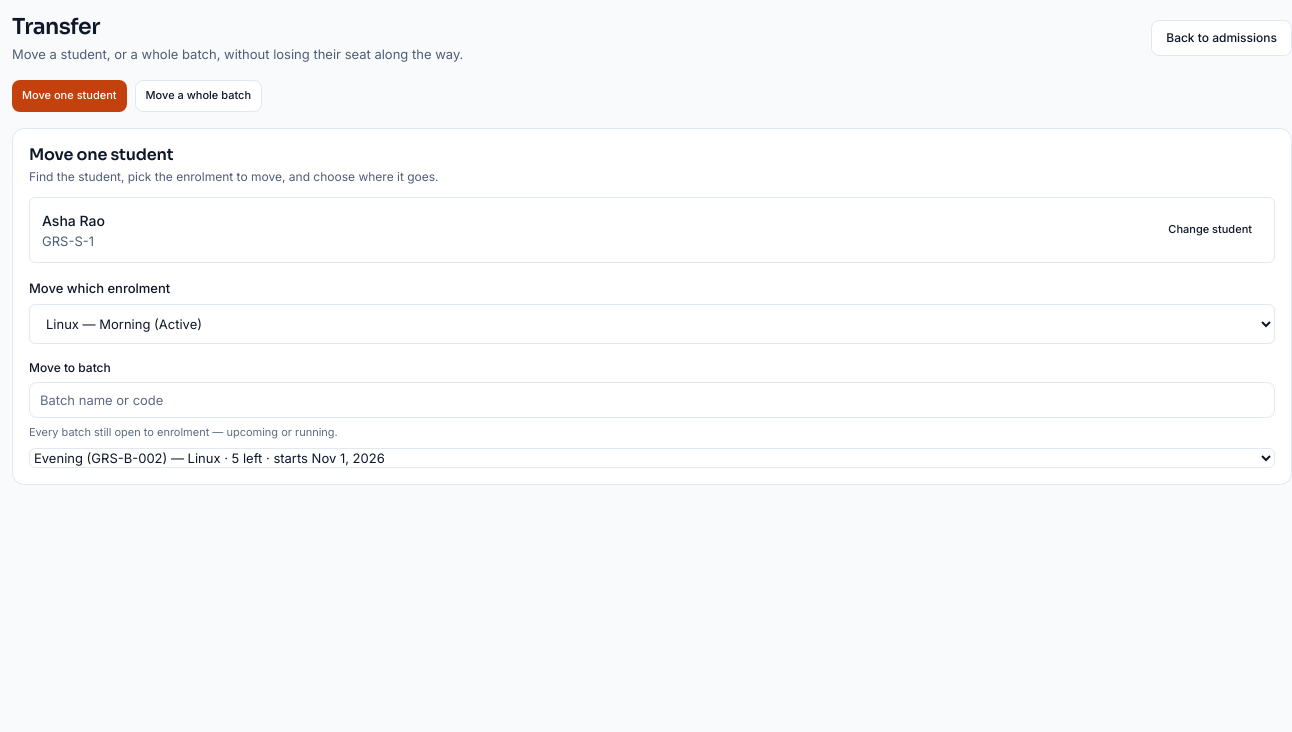
Test: Transfer — one student › asks why, then transfers with the reason and the upgrade flag
The width and height of the screenshot is (1292, 732).
Select "Evening (GRS-B-002) — Linux · 5 left · starts Nov 1, 2026" in the dropdown named "Move to batch results" at coordinates (652, 458), box [29,448,1275,468]
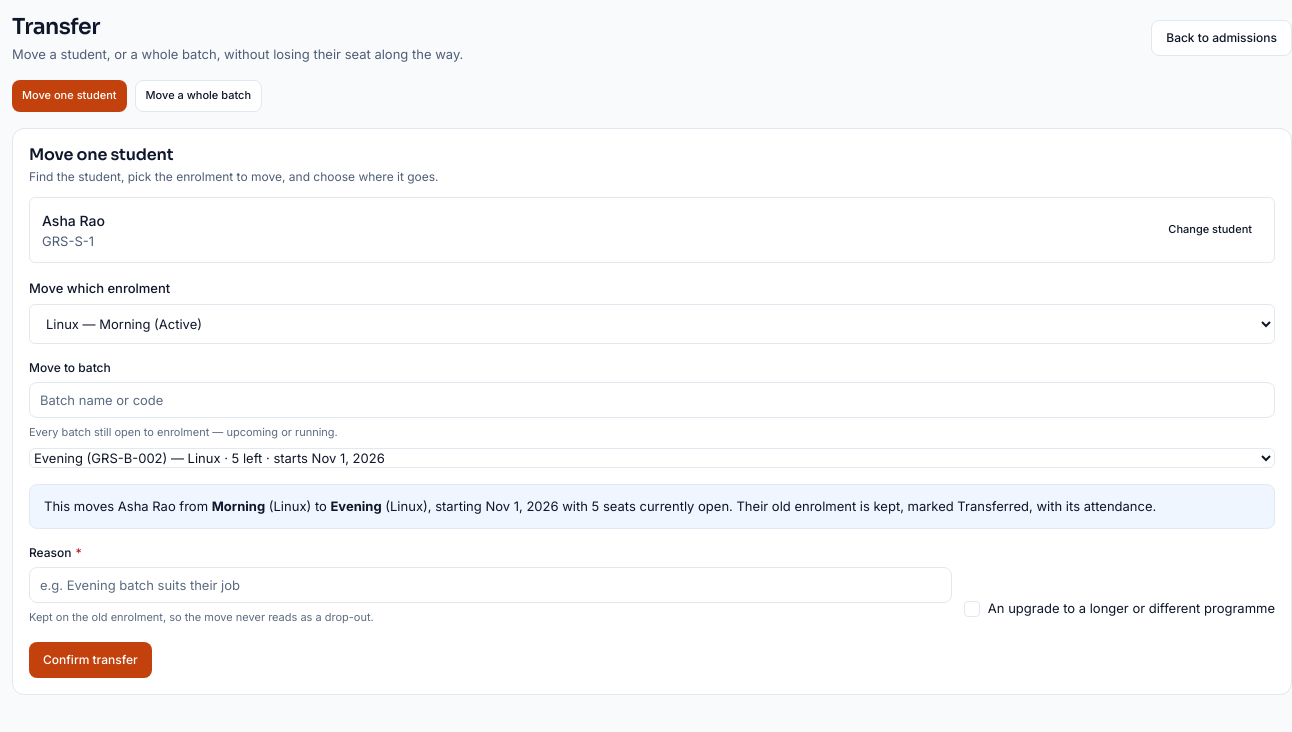
Now the message with test id "transfer-preview" shows "marked Transferred", box [636,498,1156,514]
Click the button "Confirm transfer".
click(90, 660)  # box [29,642,152,678]
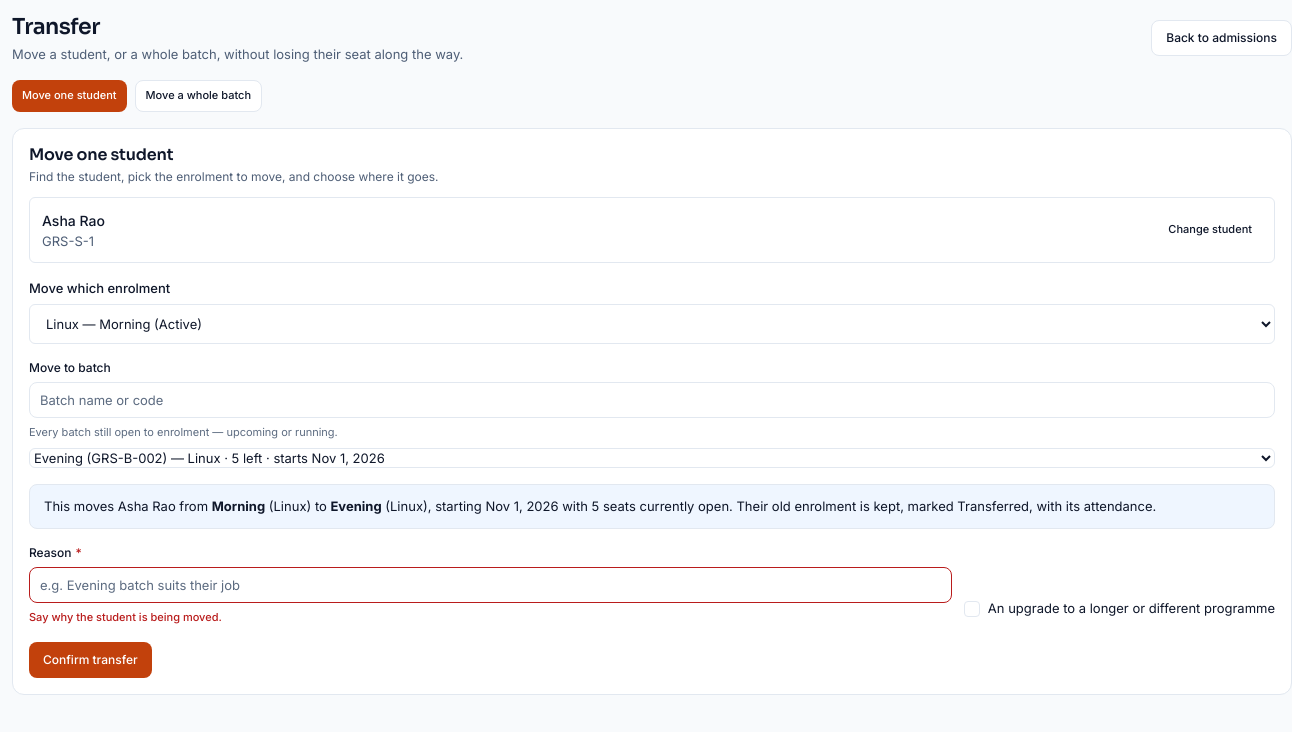
Now the text "Say why the student is being moved." is shown, box [29,610,222,624]
Type "Evening suits" into the field labelled "Reason*".
click(490, 585); type("Evening suits")  # box [29,567,952,603]
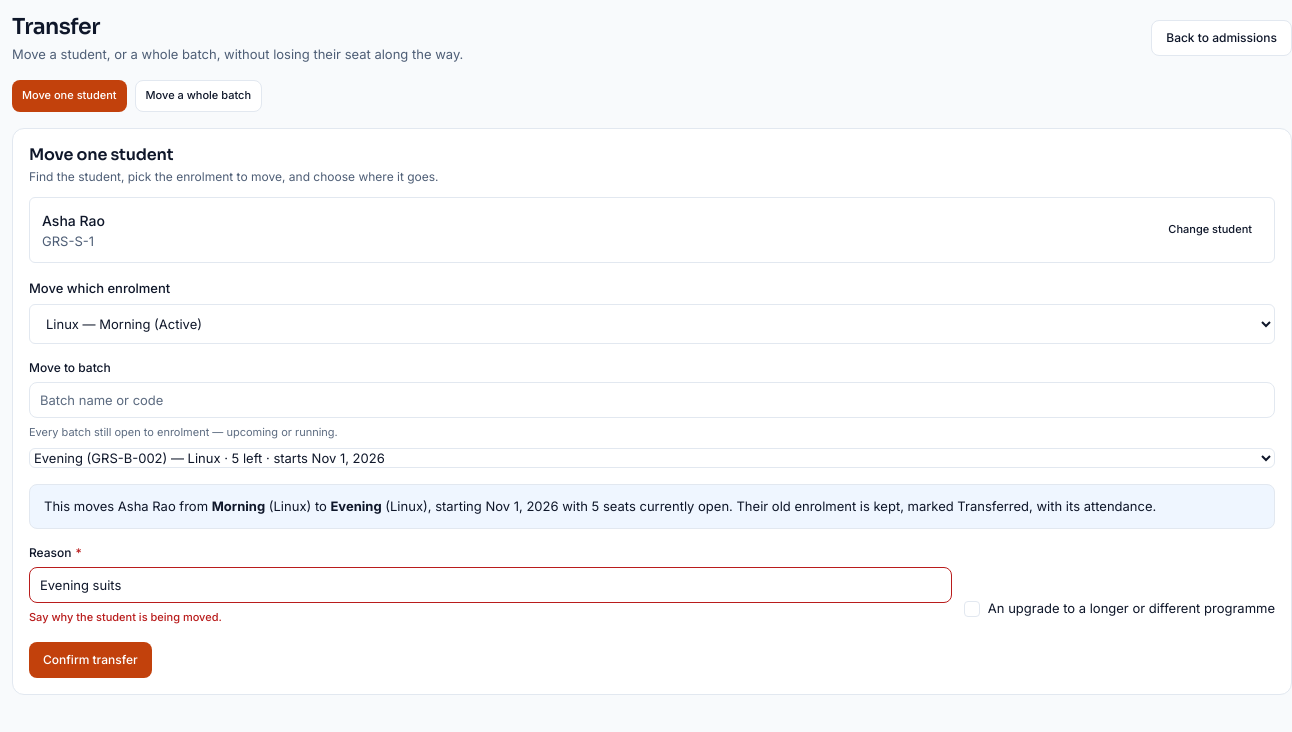
Click the checkbox.
click(1119, 613)  # box [964,600,1275,626]
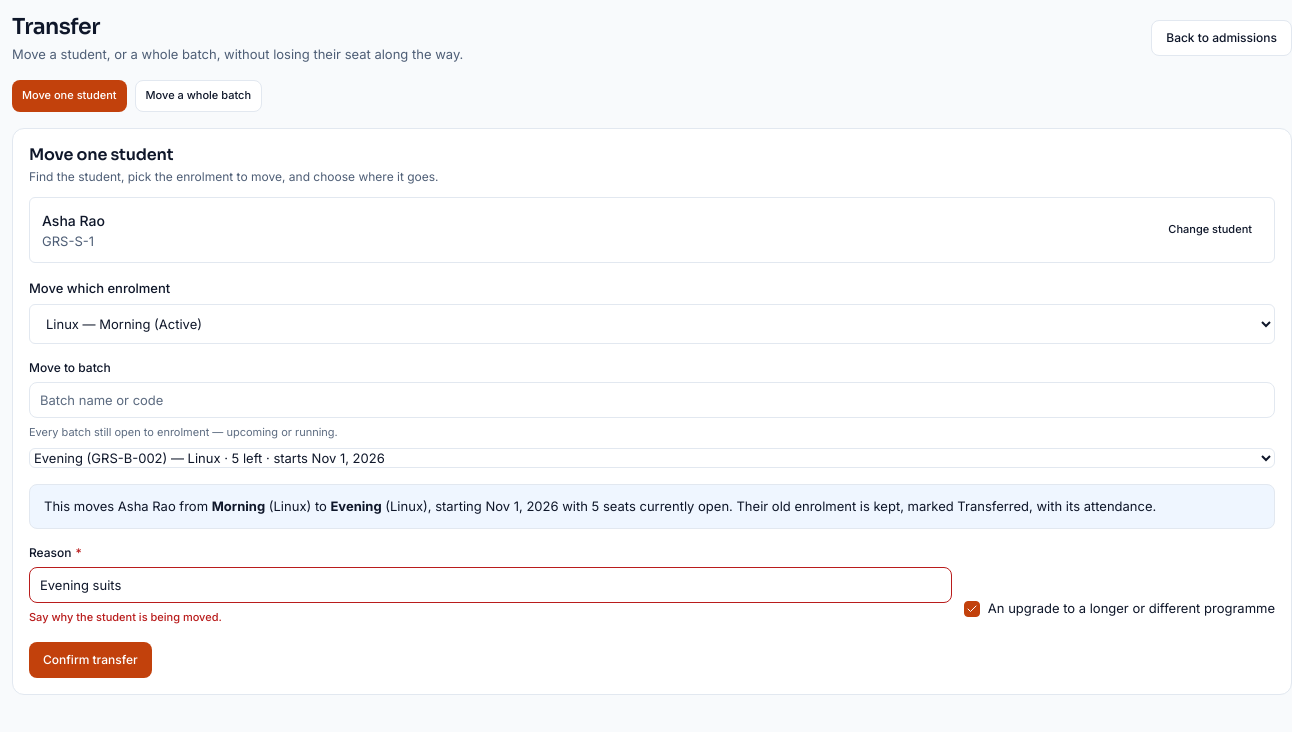
Click the button "Confirm transfer".
click(90, 660)  # box [29,642,152,678]
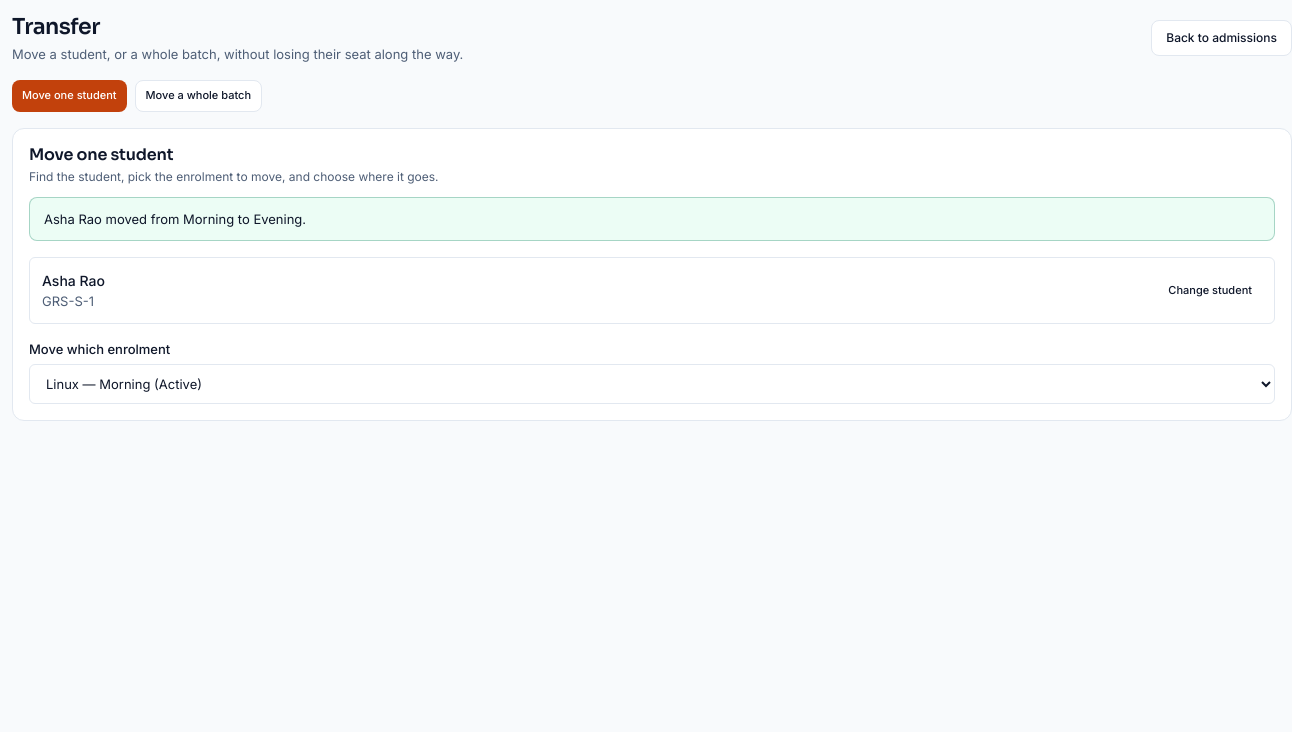
Now the text "Asha Rao moved from Morning to Evening." is shown, box [29,197,1275,242]
